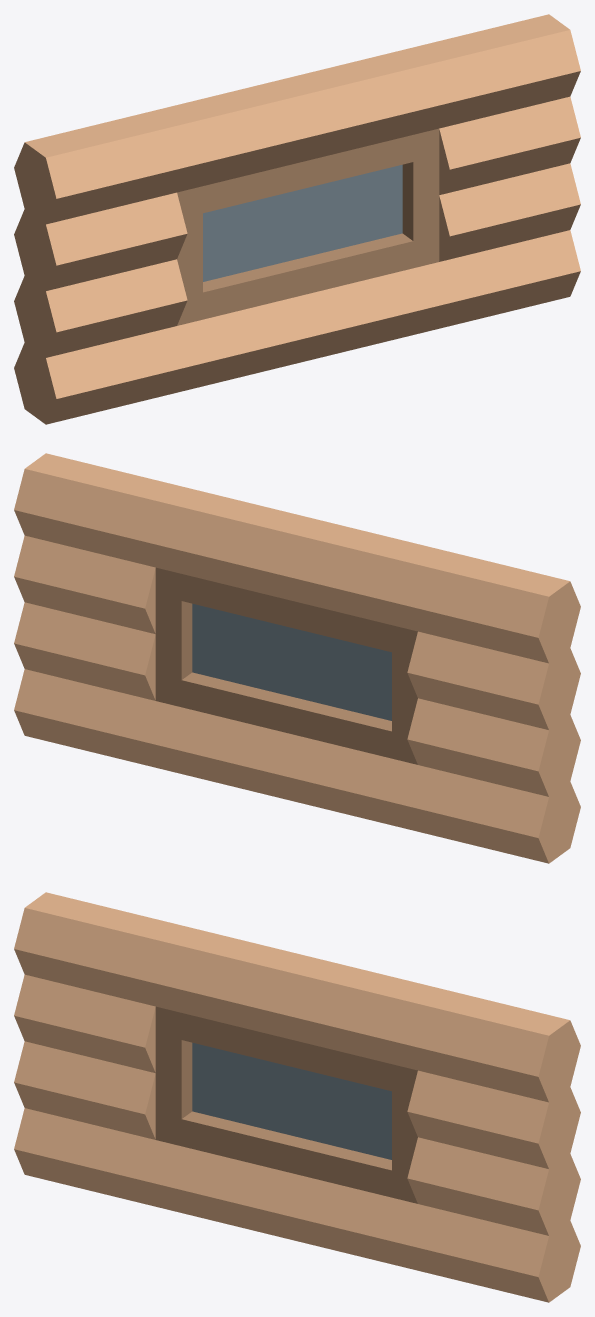
The model's file is cabinWindowHalf.glb.
3 renders of one model, top to bottom at view 1: azimuth 30°, elevation 25°; view 2: azimuth 150°, elevation 25°; view 3: azimuth 330°, elevation 25°, orthographic.
Visible parts, largest first — view 1: cabinWindowHalf; view 2: cabinWindowHalf; view 3: cabinWindowHalf.
Part boxes in pixels (<box>): cabinWindowHalf: <box>14,14,580,424</box>; cabinWindowHalf: <box>14,453,580,863</box>; cabinWindowHalf: <box>14,892,580,1302</box>.
Size of the model in its own units: 1 by 0.4864 by 0.1404.
